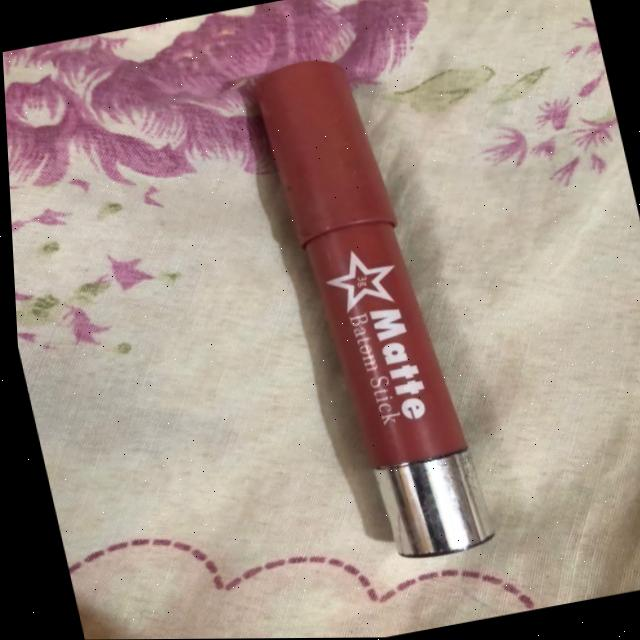lip liner: (200, 21, 524, 601)
